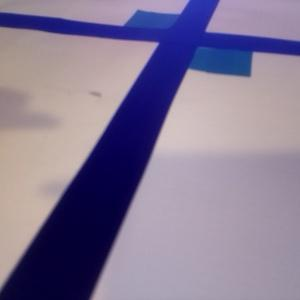bottom_right: (159, 37, 252, 76)
top_left: (123, 8, 204, 38)
